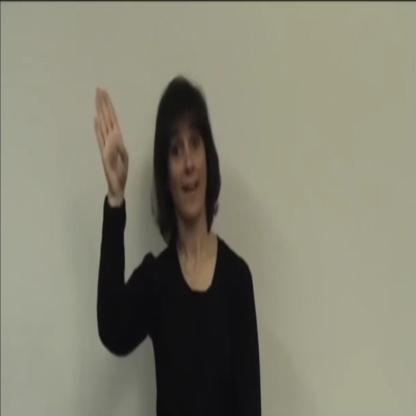Hello: (82, 67, 212, 257)
